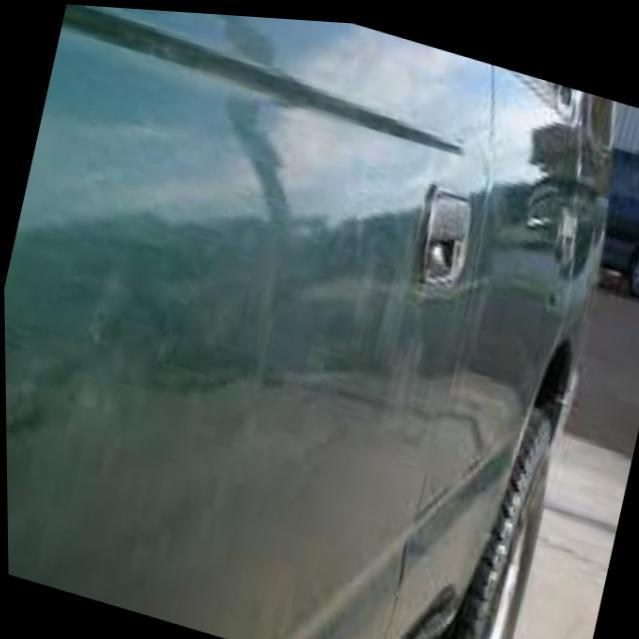rub: (346, 245, 431, 407), (520, 166, 568, 231)
